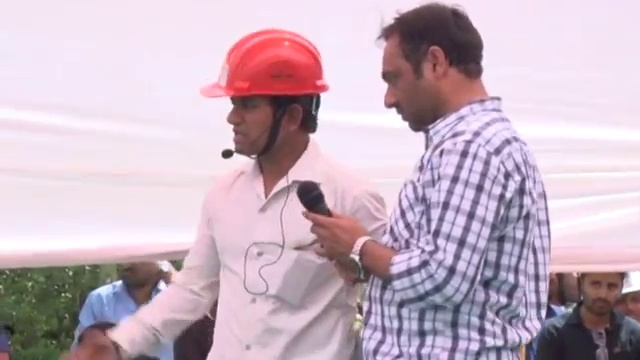helmet: (204, 31, 331, 98), (620, 275, 639, 296)
helmet_off: (372, 4, 500, 117), (577, 271, 624, 328), (114, 263, 158, 296)
helmet_on: (203, 34, 332, 161), (619, 278, 640, 326)
person: (64, 30, 409, 359), (308, 3, 556, 360), (71, 264, 178, 357), (542, 265, 640, 357)
